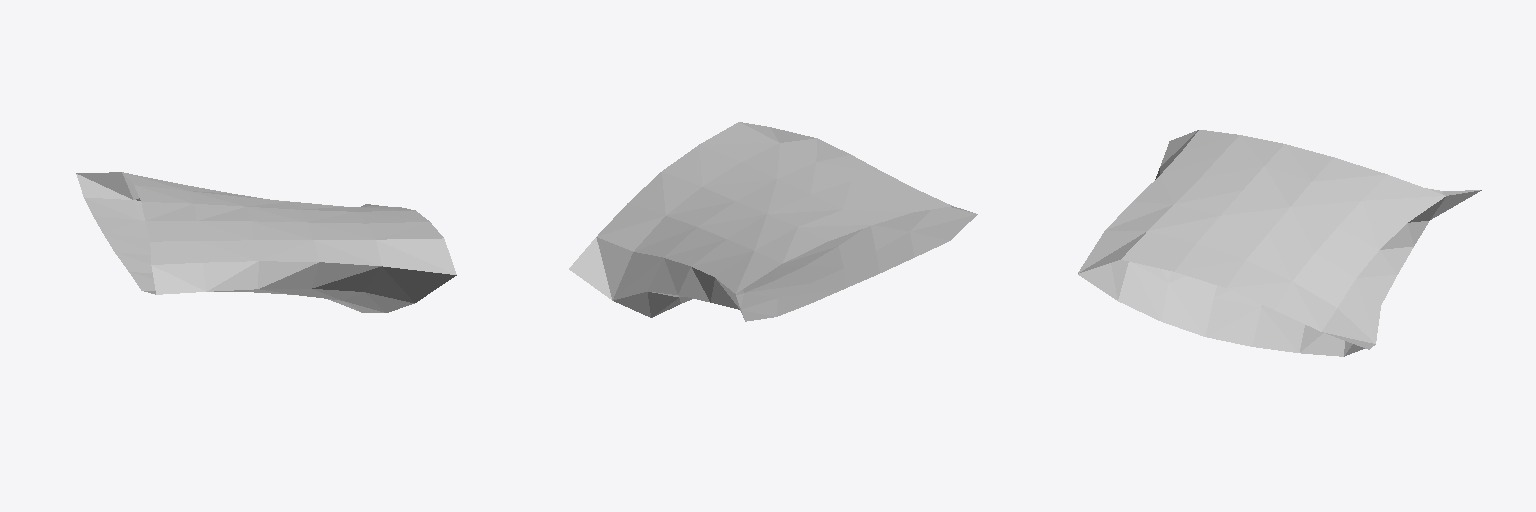
The model's file is Ala_2.obj.
3 views of the same model, side by side, from view 1: azimuth 30°, elevation 25°; view 2: azimuth 150°, elevation 25°; view 3: azimuth 270°, elevation 25° (orthographic).
Visible parts, largest first — view 1: polySurface7 polySurface5 polySurface2 BirdRetop:polySurface1; view 2: polySurface7 polySurface5 polySurface2 BirdRetop:polySurface1; view 3: polySurface7 polySurface5 polySurface2 BirdRetop:polySurface1.
Boxes of the visible parts, x1=… form: polySurface7 polySurface5 polySurface2 BirdRetop:polySurface1: x1=76, y1=172, x2=456, y2=312; polySurface7 polySurface5 polySurface2 BirdRetop:polySurface1: x1=569, y1=122, x2=977, y2=321; polySurface7 polySurface5 polySurface2 BirdRetop:polySurface1: x1=1078, y1=130, x2=1481, y2=356.
Bounding box in the file's own units: 1.95 × 0.7172 × 2.21.